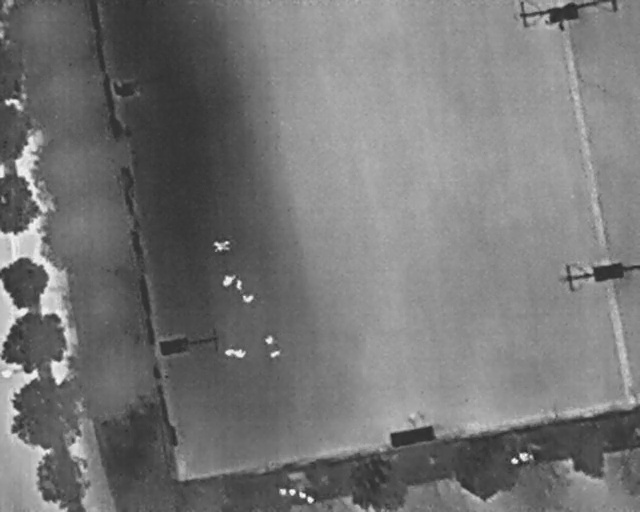Person: (213, 240, 231, 252), (222, 273, 236, 287), (234, 348, 246, 358), (224, 347, 235, 357), (242, 294, 254, 303), (265, 333, 274, 344), (270, 349, 281, 357), (236, 278, 242, 290)
